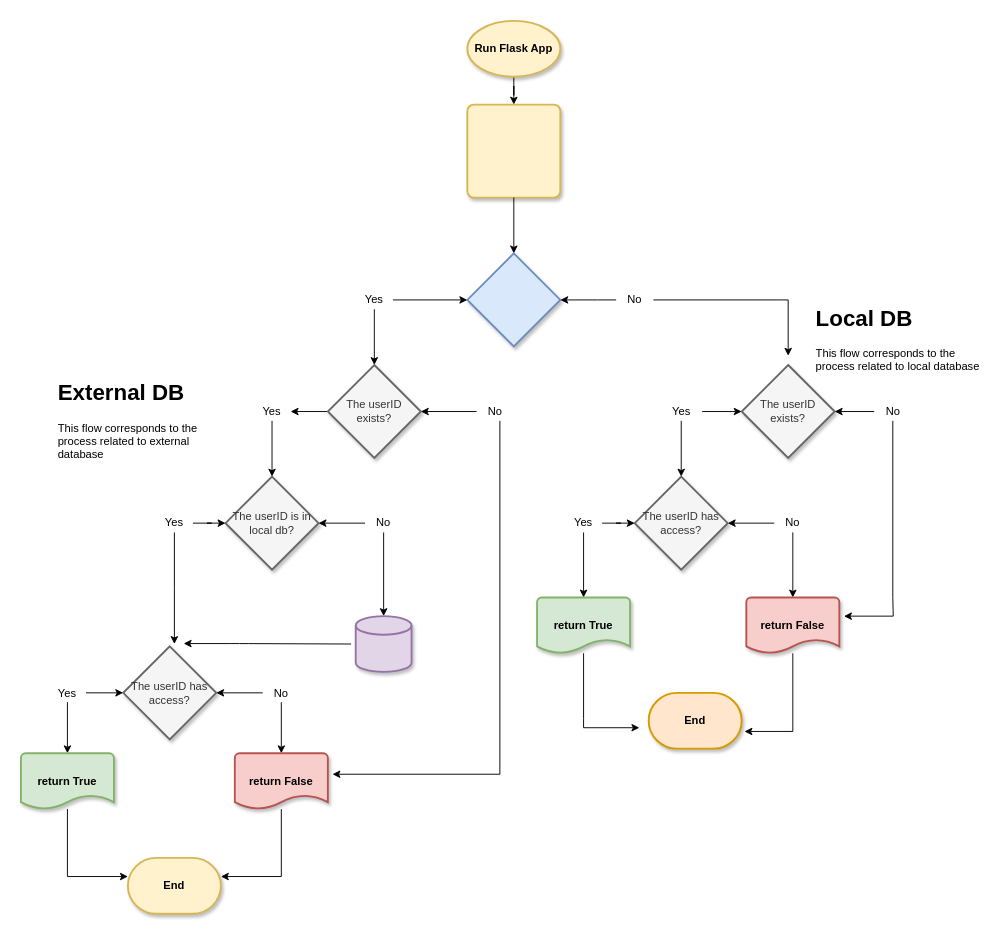
Image size: 1003x937. Some labels were removed from this diagram. The shapes that lost their labels are listed below. From the top down, each one's centre as x and y in pixels, then its label:
the point at 514,152: Perform a HTTP Request (GET) to check if the userID exists
the point at 514,300: Connected to external db
the point at 384,645: Storage it in local db
